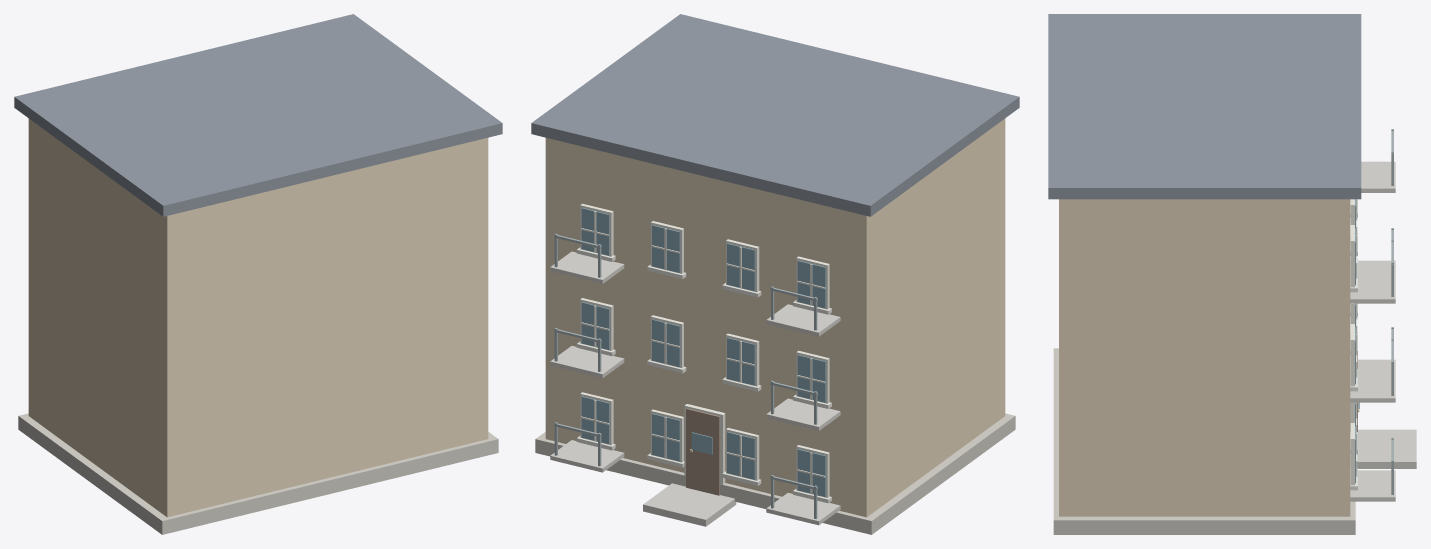
The model's file is Apartment_LowRise.glb.
3 views of the same model, side by side, from view 1: azimuth 30°, elevation 25°; view 2: azimuth 150°, elevation 25°; view 3: azimuth 270°, elevation 25° (orthographic). The views are drawn at different scales.
Parts seen in each view (by area): view 1: 001_apartment_body_001, 002_flat_roof_002, 000_foundation_000; view 2: 001_apartment_body_001, 002_flat_roof_002, 000_foundation_000, 091_stoop_091, 088_door_088, 036_balcony_slab_036, 064_balcony_slab_064, 083_balcony_slab_083, 008_balcony_slab_008, 055_balcony_slab_055, 027_balcony_slab_027, 018_window_glass_018 (+12 smaller); view 3: 001_apartment_body_001, 002_flat_roof_002, 000_foundation_000, 091_stoop_091, 027_balcony_slab_027, 055_balcony_slab_055, 083_balcony_slab_083, 064_balcony_slab_064, 036_balcony_slab_036, 008_balcony_slab_008.
Boxes of the visible parts, x1,y1,x2,y2 form: 001_apartment_body_001: (28,118,488,517); 002_flat_roof_002: (14,14,502,216); 000_foundation_000: (18,413,498,534); 001_apartment_body_001: (545,118,1005,517); 002_flat_roof_002: (531,14,1019,216); 000_foundation_000: (535,413,1015,534); 091_stoop_091: (643,483,736,526); 088_door_088: (686,408,719,495); 036_balcony_slab_036: (766,398,840,430); 064_balcony_slab_064: (766,304,840,336); 083_balcony_slab_083: (550,251,624,283); 008_balcony_slab_008: (766,493,840,525); 055_balcony_slab_055: (550,346,624,378); 027_balcony_slab_027: (550,440,624,472); 018_window_glass_018: (652,413,680,461); 001_apartment_body_001: (1059,199,1350,516); 002_flat_roof_002: (1048,14,1361,199); 000_foundation_000: (1053,348,1355,534); 091_stoop_091: (1357,429,1416,468); 027_balcony_slab_027: (1350,470,1395,501); 055_balcony_slab_055: (1350,371,1395,402); 083_balcony_slab_083: (1350,272,1395,303); 064_balcony_slab_064: (1361,161,1395,192); 036_balcony_slab_036: (1358,260,1395,272); 008_balcony_slab_008: (1358,359,1395,371).
Size of the model in its own units: 11.3 by 10.67 by 10.12.
